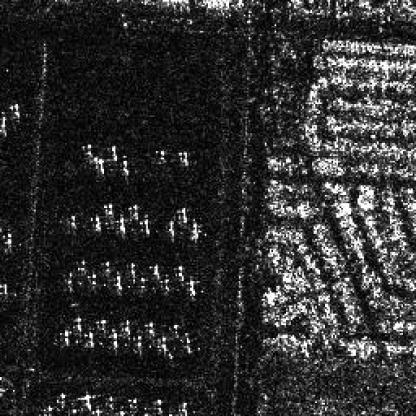airplane: (180, 332, 196, 354), (184, 278, 200, 299), (164, 218, 179, 240), (156, 335, 172, 354), (169, 322, 185, 341), (187, 219, 201, 239), (62, 271, 76, 291), (138, 216, 154, 232), (93, 158, 107, 176), (152, 143, 166, 161), (111, 273, 125, 291), (150, 262, 164, 280), (83, 330, 97, 348), (78, 143, 94, 158), (176, 203, 188, 223), (117, 159, 130, 177), (53, 392, 66, 410), (106, 145, 118, 164), (143, 320, 158, 335), (176, 150, 190, 166), (76, 257, 90, 273), (58, 328, 72, 344), (136, 276, 150, 291), (106, 333, 122, 346), (72, 315, 84, 332), (80, 392, 91, 410), (6, 102, 20, 116), (126, 395, 140, 409), (100, 258, 113, 273), (125, 260, 138, 275), (128, 203, 140, 219), (88, 272, 100, 288), (159, 276, 171, 292), (132, 333, 144, 349), (177, 398, 189, 414), (0, 112, 10, 130), (115, 216, 127, 231), (174, 265, 185, 281), (154, 396, 164, 413), (96, 317, 109, 330), (90, 215, 102, 229), (102, 200, 114, 213), (122, 319, 133, 333), (68, 211, 78, 226), (1, 232, 12, 245), (104, 395, 115, 408), (40, 404, 53, 414), (0, 280, 8, 294), (91, 406, 102, 414), (67, 408, 78, 414)
